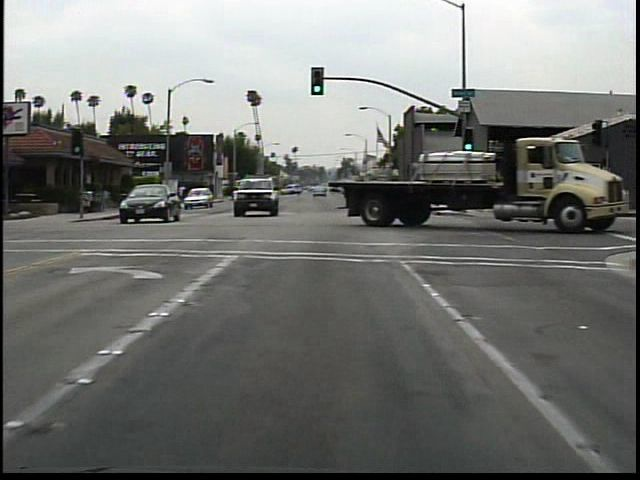person: (175, 182, 191, 206)
